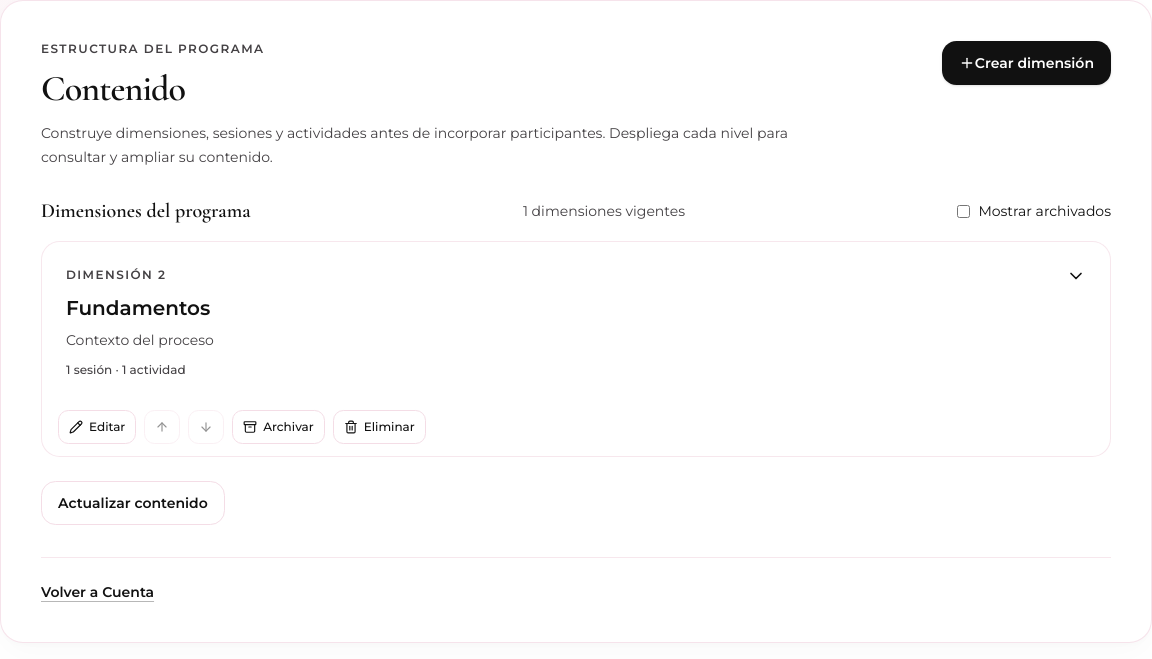
Test: renders the ordered real dimension and session structure
The width and height of the screenshot is (1152, 659).
Expected: the text "Fundamentos" is shown, [66,294,214,322]
Expected: the text "Dimensión 2" is shown, [66,267,166,282]
Click the button "Fundamentos" at {"x": 576, "y": 320}, box [42,242,1110,398]
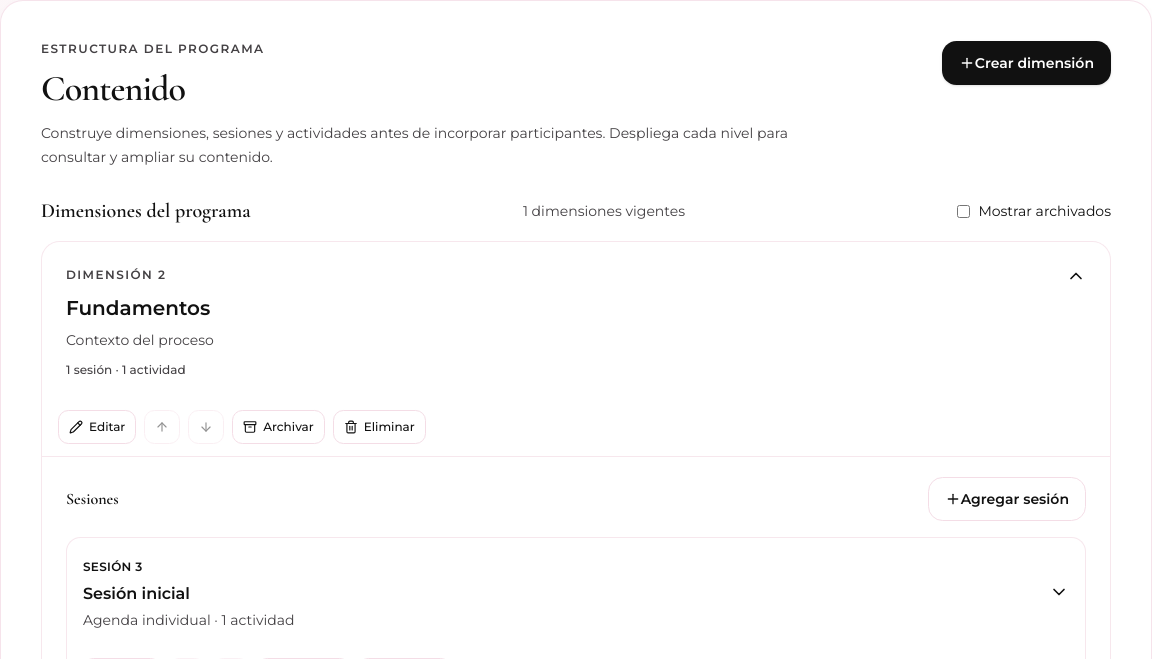
Expected: the text "Reflexión inicial" is not shown
Expected: the text "Sesión inicial" is shown, [83,584,190,603]
Expected: the text "Agenda individual · 1 actividad" is shown, [83,610,294,630]
Click the button "Sesión 3 Sesión inicial Agenda individual · 1 actividad" at {"x": 109, "y": 566}, box [67,538,1085,646]
(page scrolled)
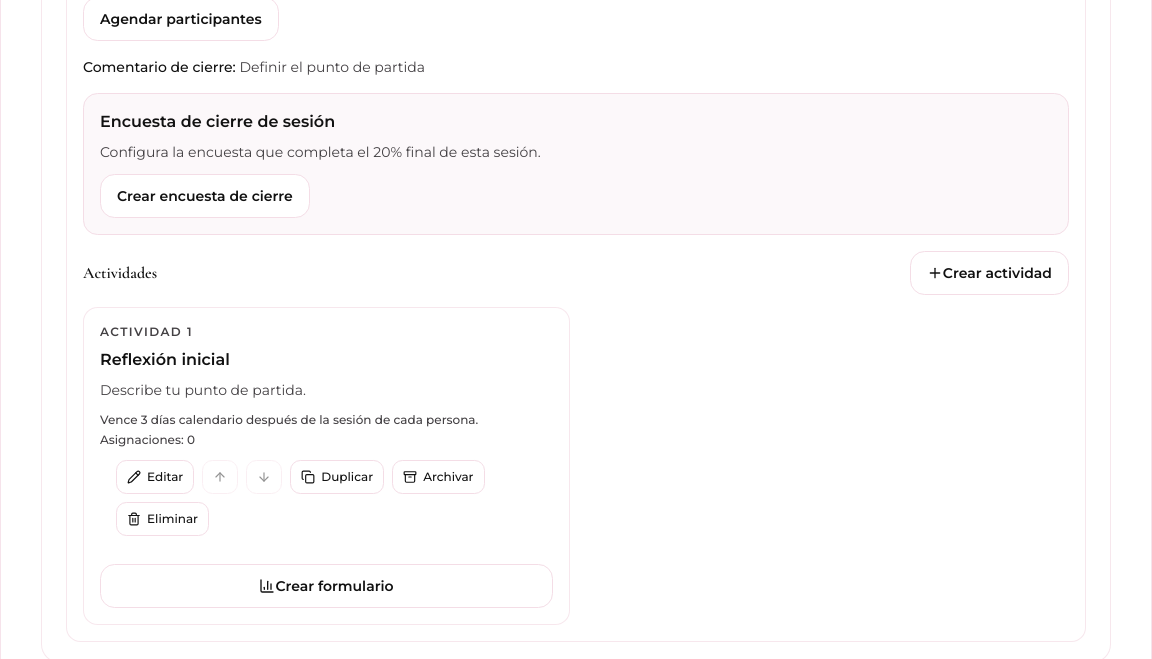
Expected: the text "Comentario de cierre: Definir el punto de partida" is shown, [83,58,425,76]
Expected: the text "Reflexión inicial" is shown, [100,350,230,369]
